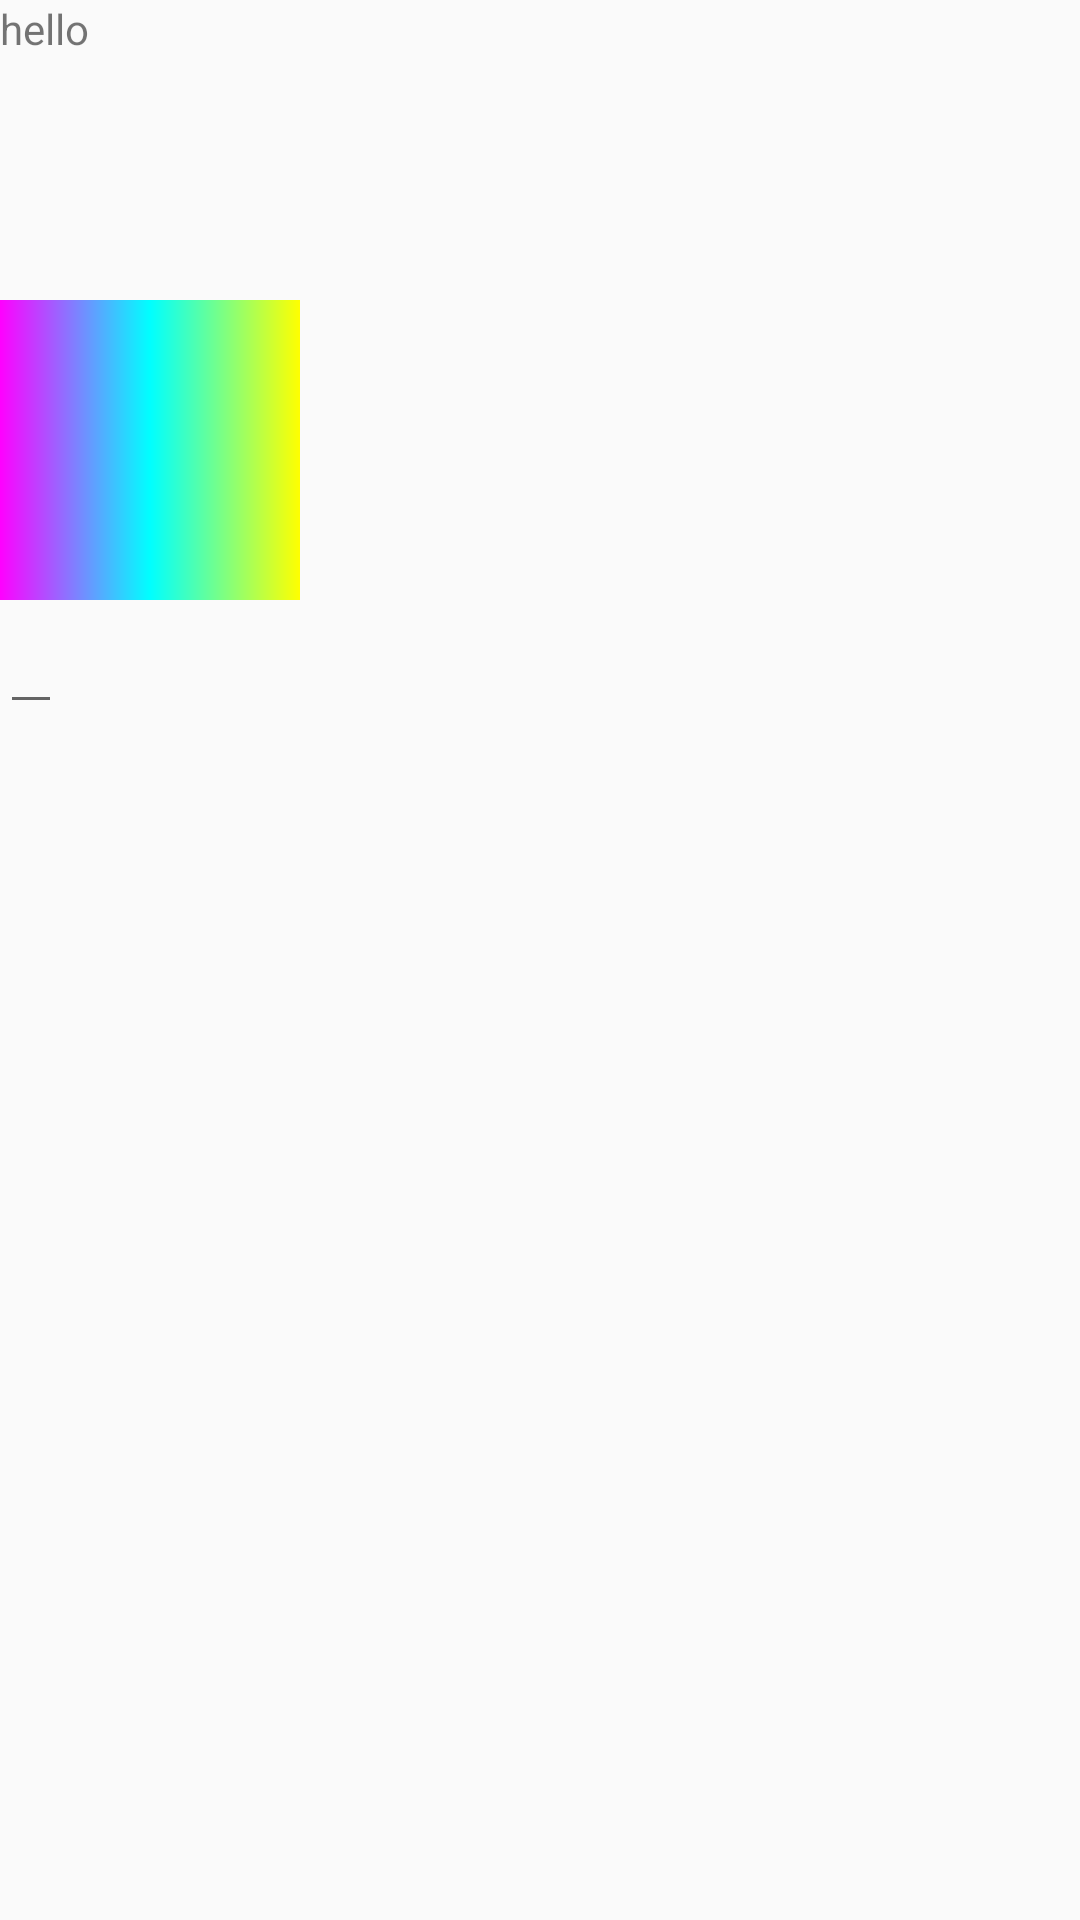

Where icons sit on this 1080x1920 app screen, as (x1, y1, x2, y2):
grad: (0, 300, 300, 600)
